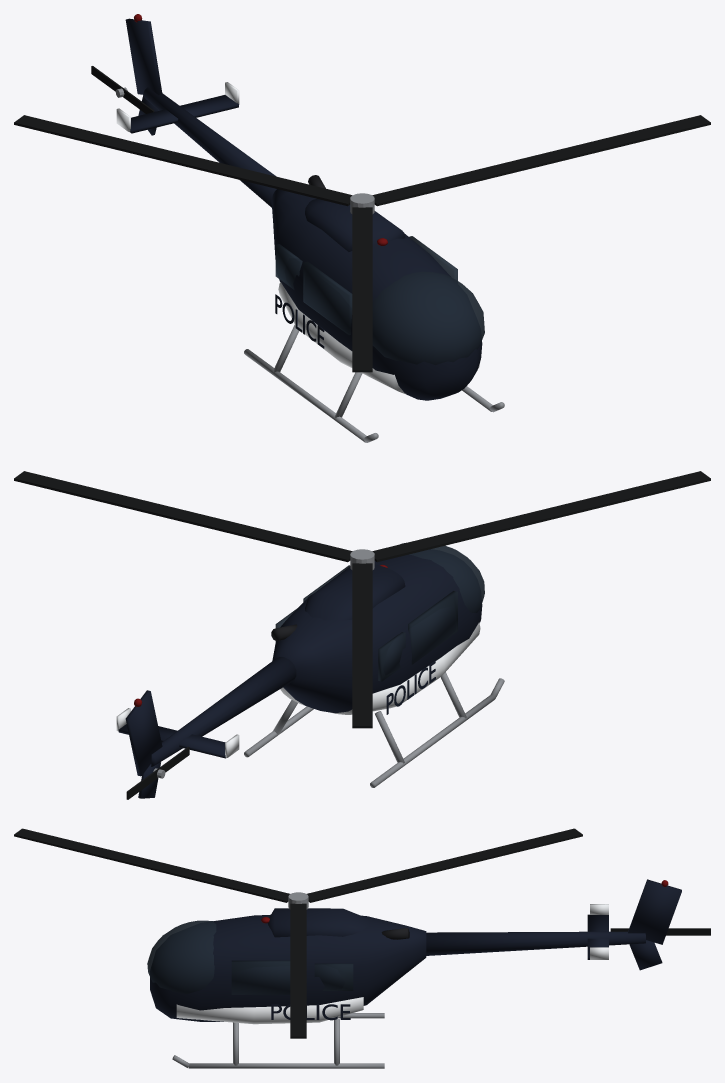
File: heli_police.glb
The picture shows the model from 3 angles, top to bottom: view 1: azimuth 30°, elevation 25°; view 2: azimuth 150°, elevation 25°; view 3: azimuth 270°, elevation 25°; orthographic projection. The views are drawn at different scales.
Visible parts, largest first — view 1: Body, rotor_main; view 2: Body, rotor_main, rotor_tail, LetteringR; view 3: Body, rotor_main, LetteringL, rotor_tail.
Boxes of the visible parts, <box> form: Body: <box>116,14,504,442</box>; rotor_main: <box>14,115,710,372</box>; Body: <box>116,542,504,798</box>; rotor_main: <box>14,471,710,728</box>; rotor_tail: <box>126,746,189,799</box>; LetteringR: <box>386,660,435,714</box>; Body: <box>147,879,681,1068</box>; rotor_main: <box>14,828,582,1038</box>; LetteringL: <box>271,1004,350,1020</box>; rotor_tail: <box>610,928,710,935</box>.
Size of the model in its own units: 8.3 by 3.03 by 11.73.
